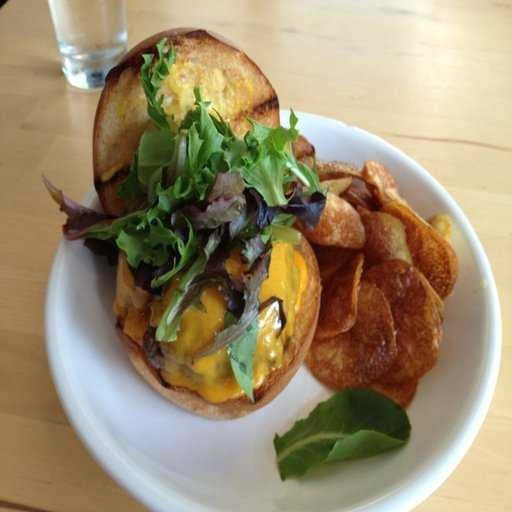hamburger: (90, 33, 313, 419)
